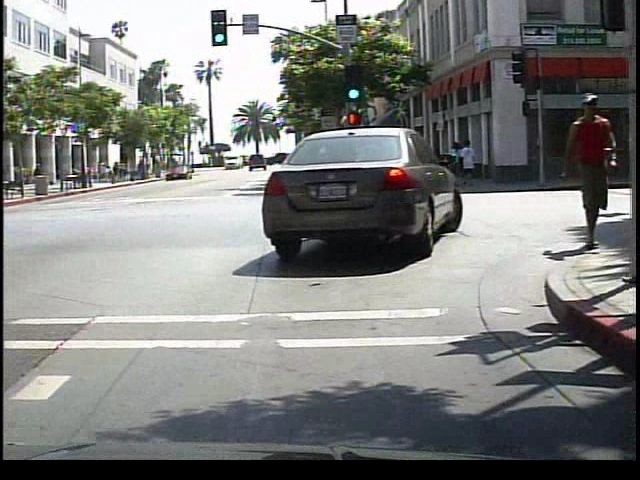person: (548, 88, 616, 262), (27, 158, 44, 190)
